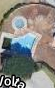pool: (10, 35, 37, 54)
